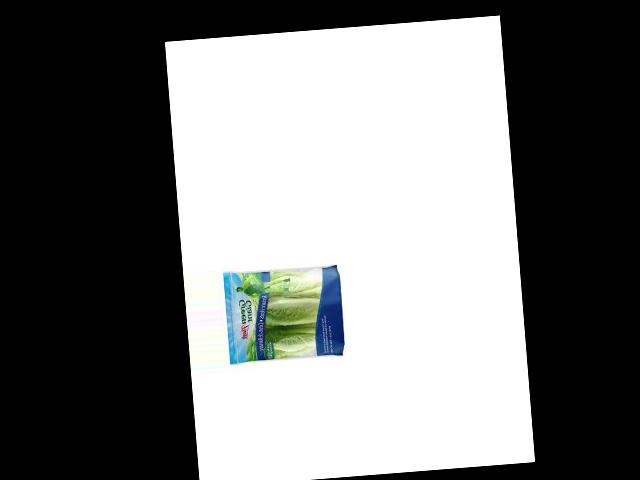lettuce: (227, 260, 346, 366)
